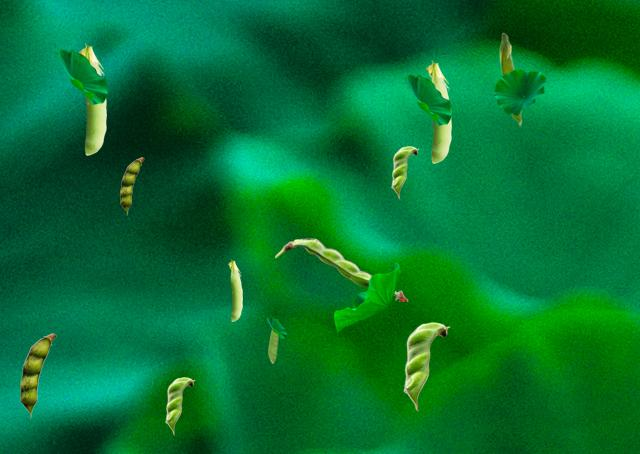pea: (275, 238, 407, 300), (403, 322, 449, 410), (20, 333, 55, 417), (79, 43, 105, 154), (426, 60, 450, 162), (499, 32, 521, 125), (165, 377, 194, 434), (391, 146, 418, 198), (120, 157, 143, 214), (228, 259, 241, 320), (268, 329, 277, 362)
